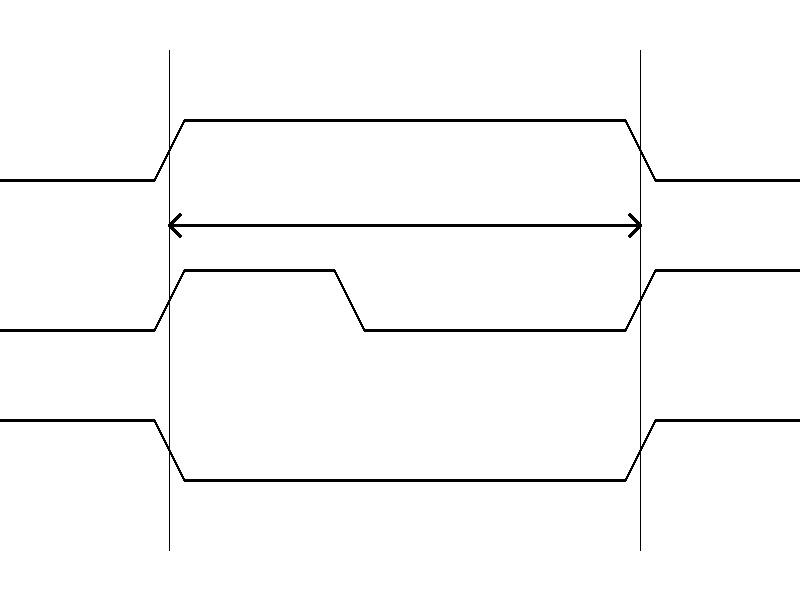double_arrow: (169, 210, 640, 240)
